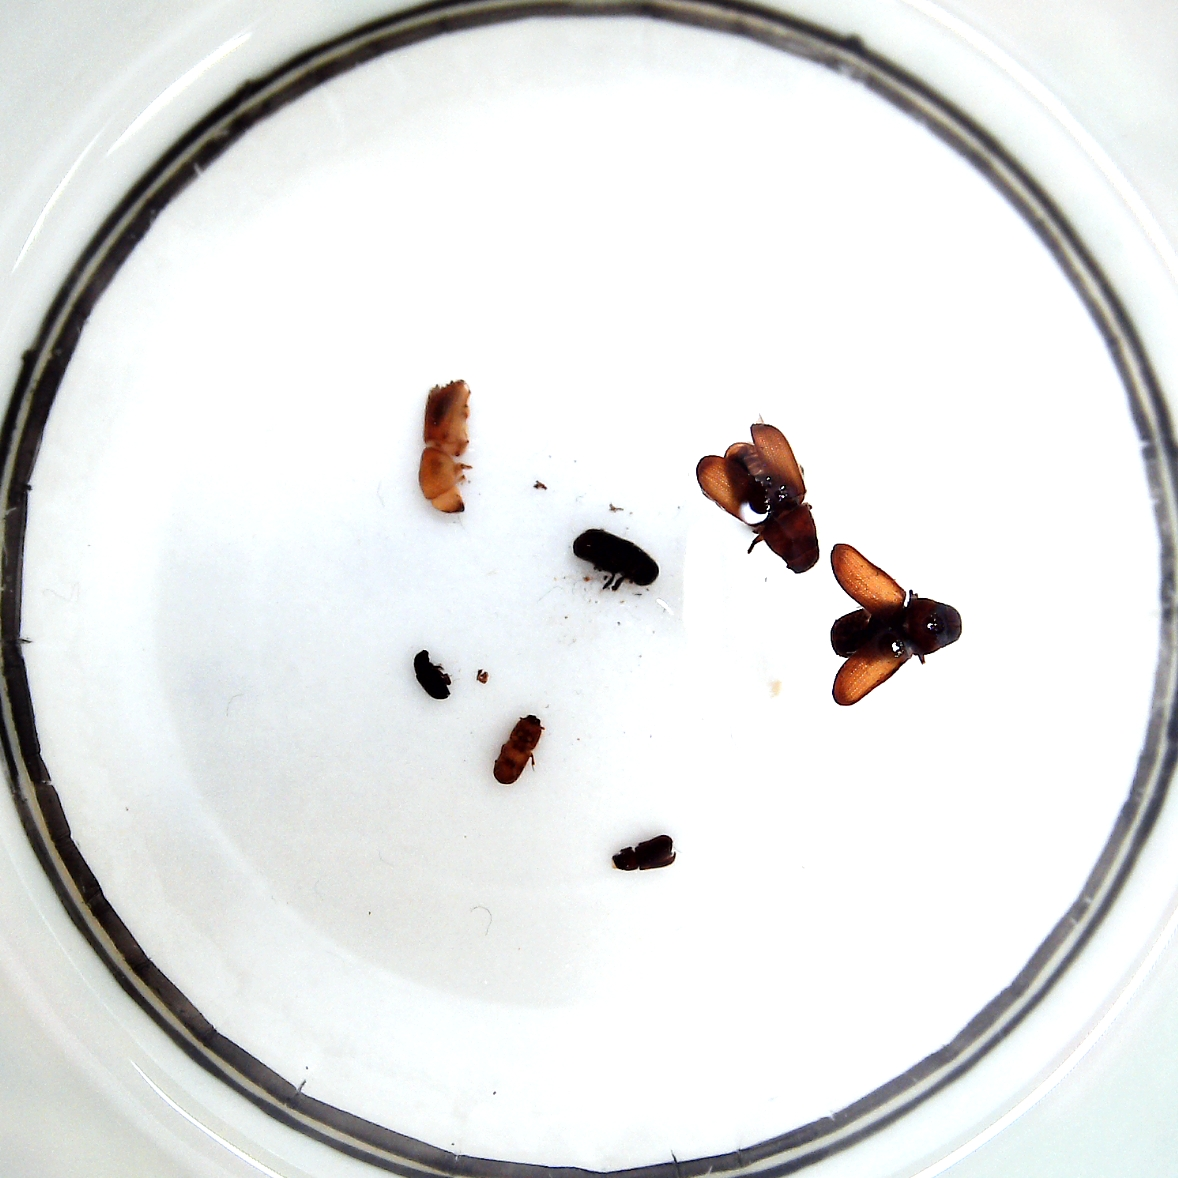Boerner: (419, 380, 471, 513)
Leconte: (724, 443, 820, 573), (828, 595, 962, 661)
acuminatus: (414, 650, 451, 700)
armandi: (573, 529, 658, 588)
coleoptera: (494, 717, 542, 784), (612, 835, 675, 869)
